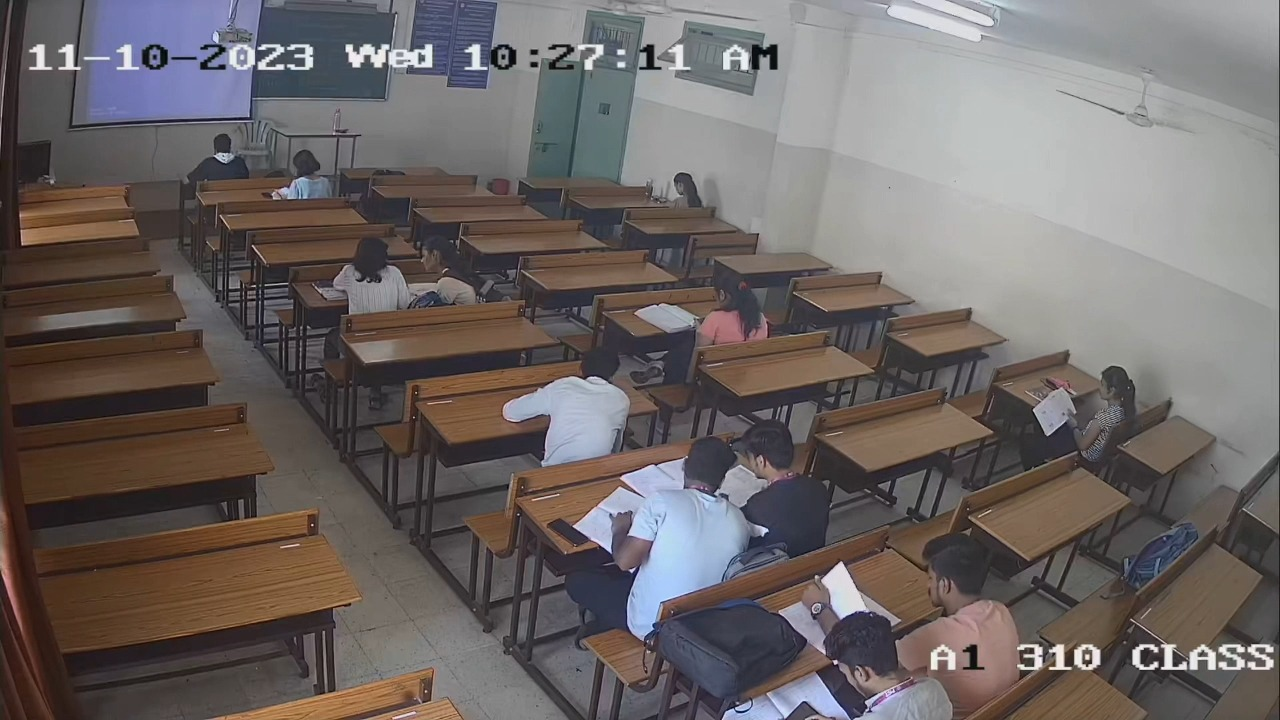cell-phones: (546, 517, 590, 548), (779, 700, 824, 720)
person: (608, 434, 750, 605), (819, 608, 956, 720)
